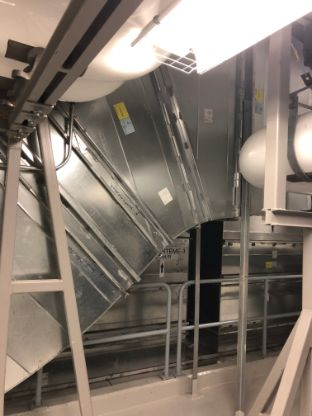Duct: (1, 47, 252, 400)
